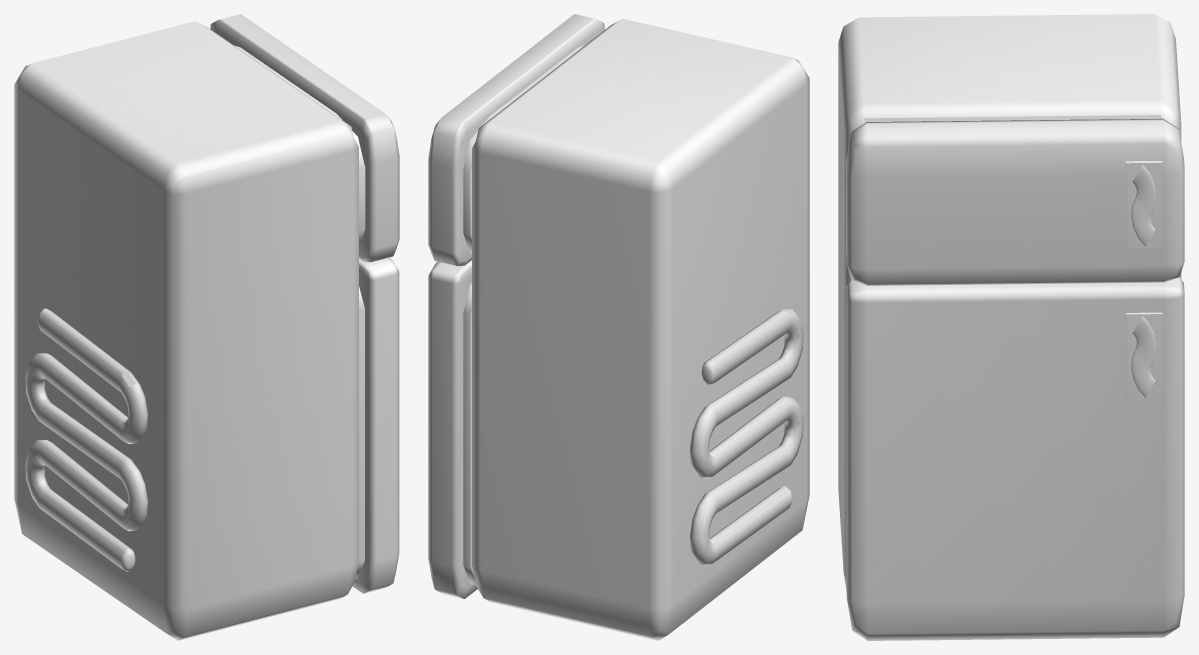
Rendered from refrigerador.obj.
The picture shows the model from 3 angles, left to right: view 1: azimuth 30°, elevation 25°; view 2: azimuth 150°, elevation 25°; view 3: azimuth 270°, elevation 25°; orthographic projection. The views are drawn at different scales.
Parts seen in each view (by area): view 1: cuarto:polySurface7165; view 2: cuarto:polySurface7165; view 3: cuarto:polySurface7165.
Part boxes in pixels (box(x1,y1,x2,y2)): cuarto:polySurface7165: box(14, 14, 399, 640); cuarto:polySurface7165: box(428, 14, 809, 640); cuarto:polySurface7165: box(838, 14, 1184, 640).
Size of the model in its own units: 1.59 by 2.88 by 1.76.
3 materials, 3 textured.
